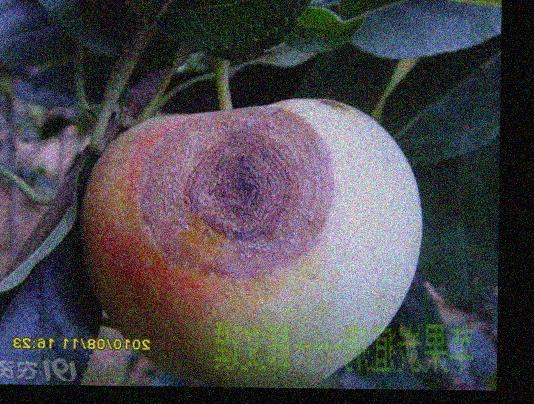rotten apple: (73, 77, 426, 387)
